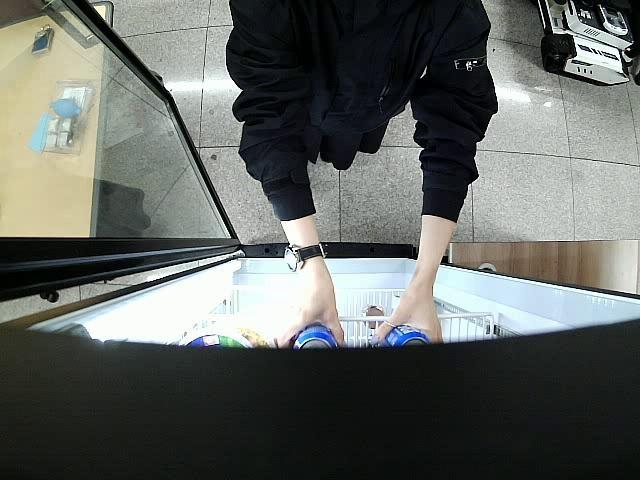13_pocariSweat: (292, 321, 338, 352), (384, 322, 431, 348)
